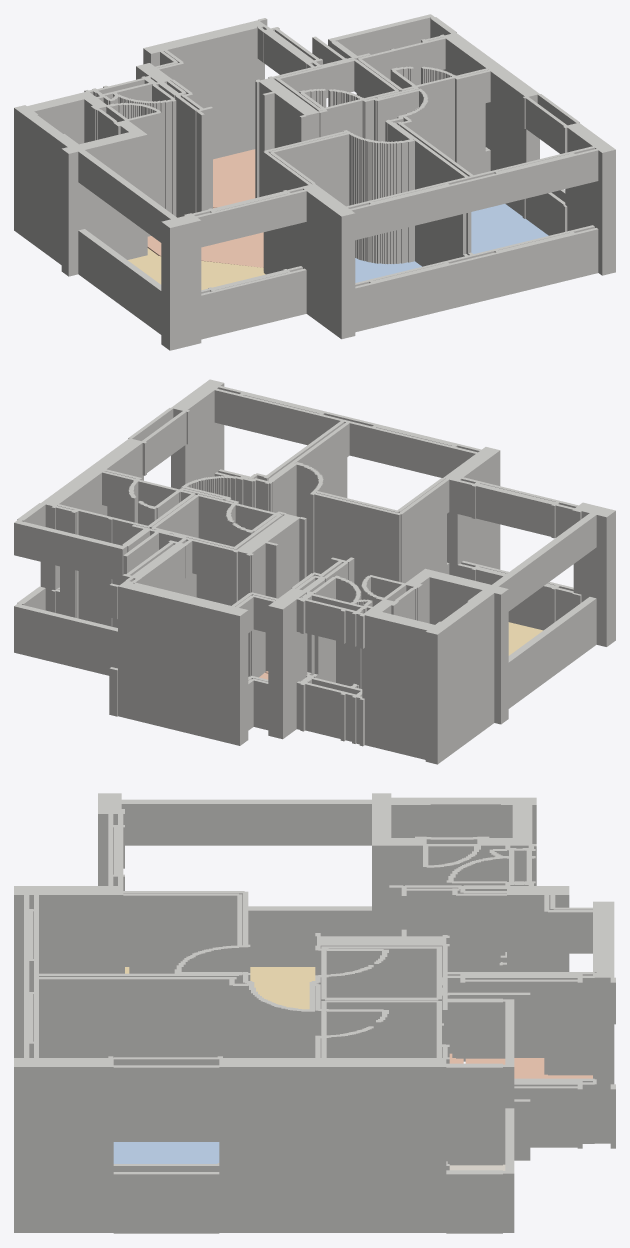
3 views of the same model, one above another, from view 1: azimuth 30°, elevation 25°; view 2: azimuth 150°, elevation 25°; view 3: azimuth 270°, elevation 25° (orthographic). The views are drawn at different scales.
Visible parts, largest first — view 1: walls, room:bedroom:2, room:kitchen:6, room:living:5, room:kitchen:0, room:bedroom:4; view 2: walls, room:living:5; view 3: walls, room:bedroom:2, room:living:5, room:kitchen:6.
Boxes of the visible parts, <box> form: walls: <box>14,14,615,350</box>; room:bedroom:2: <box>471,204,548,253</box>; room:kitchen:6: <box>213,149,255,207</box>; room:living:5: <box>128,248,265,290</box>; room:kitchen:0: <box>147,207,263,267</box>; room:bedroom:4: <box>355,258,421,282</box>; walls: <box>14,379,615,764</box>; room:living:5: <box>508,622,543,655</box>; walls: <box>14,793,615,1233</box>; room:bedroom:2: <box>113,1142,219,1163</box>; room:living:5: <box>125,967,315,1009</box>; room:kitchen:6: <box>465,1058,592,1078</box>.
Bounding box in the file's own units: 9.93 × 2.8 × 9.21.
